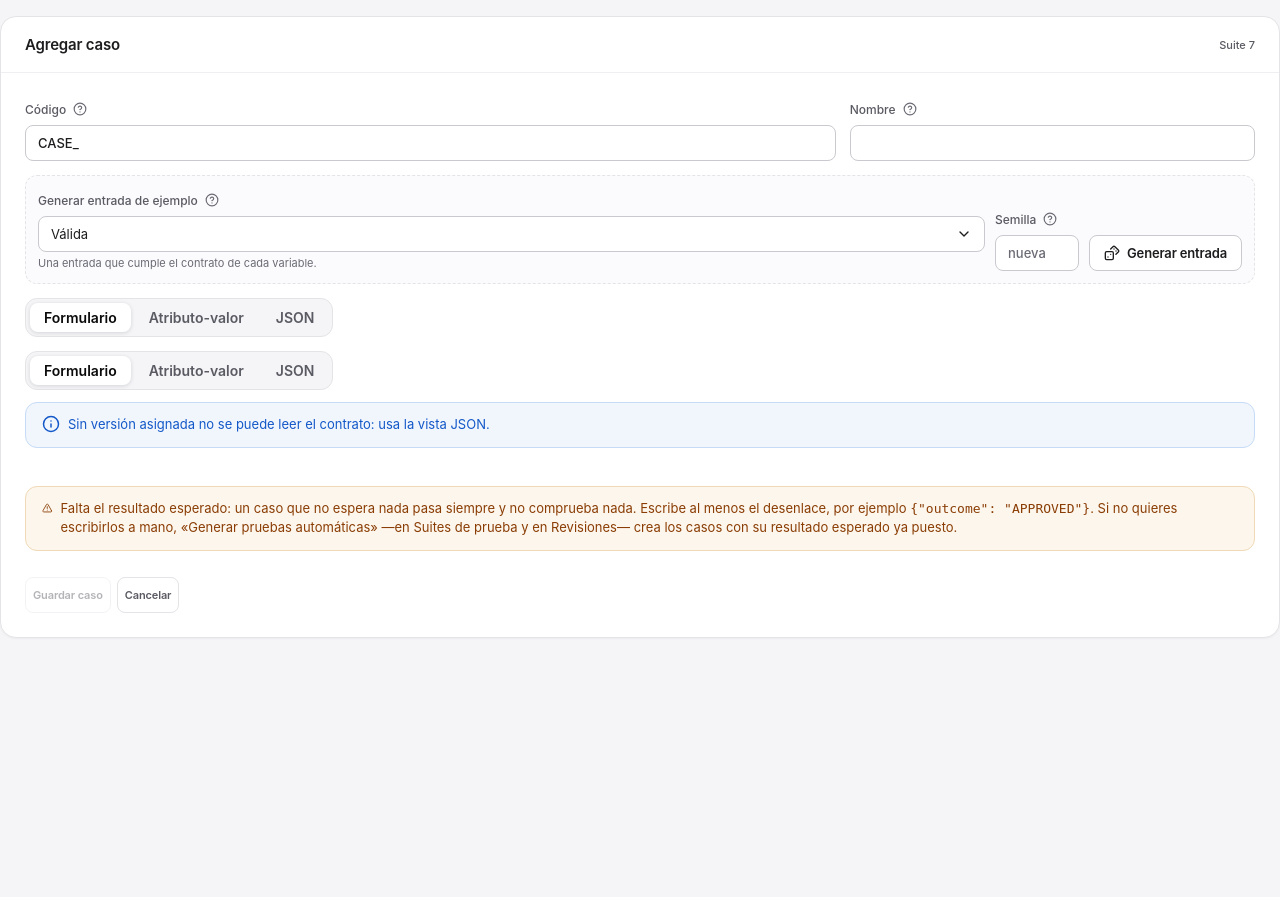
Generar entrada de un caso de prueba › no toca el resultado esperado: eso es lo que la prueba afirma
Click the button "Generar entrada" at (1166, 253), box [1089, 235, 1242, 271]
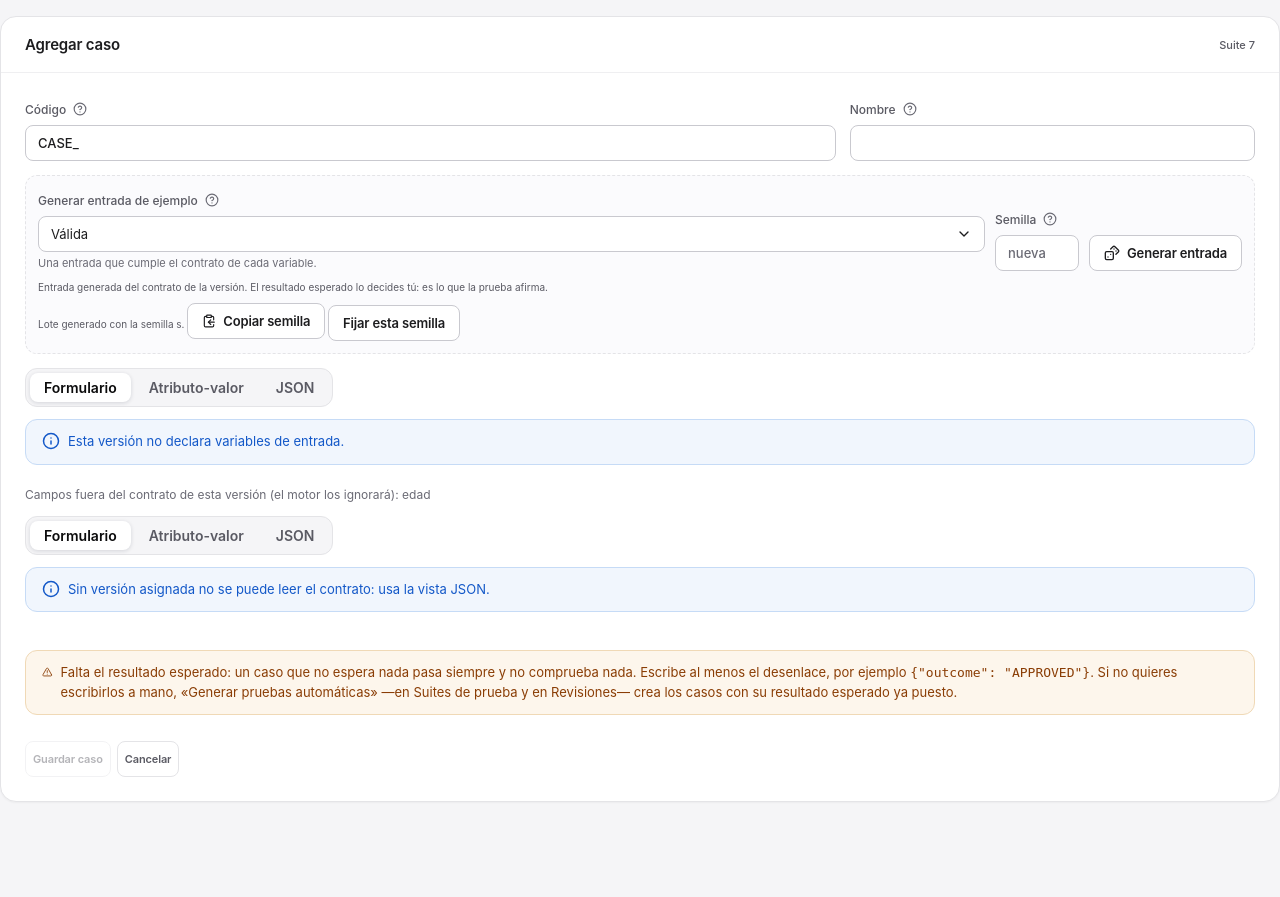
Expected: the text "semilla s" is shown, [38, 303, 460, 341]
Click the 2nd tab "JSON" at (295, 535), box [262, 521, 328, 550]
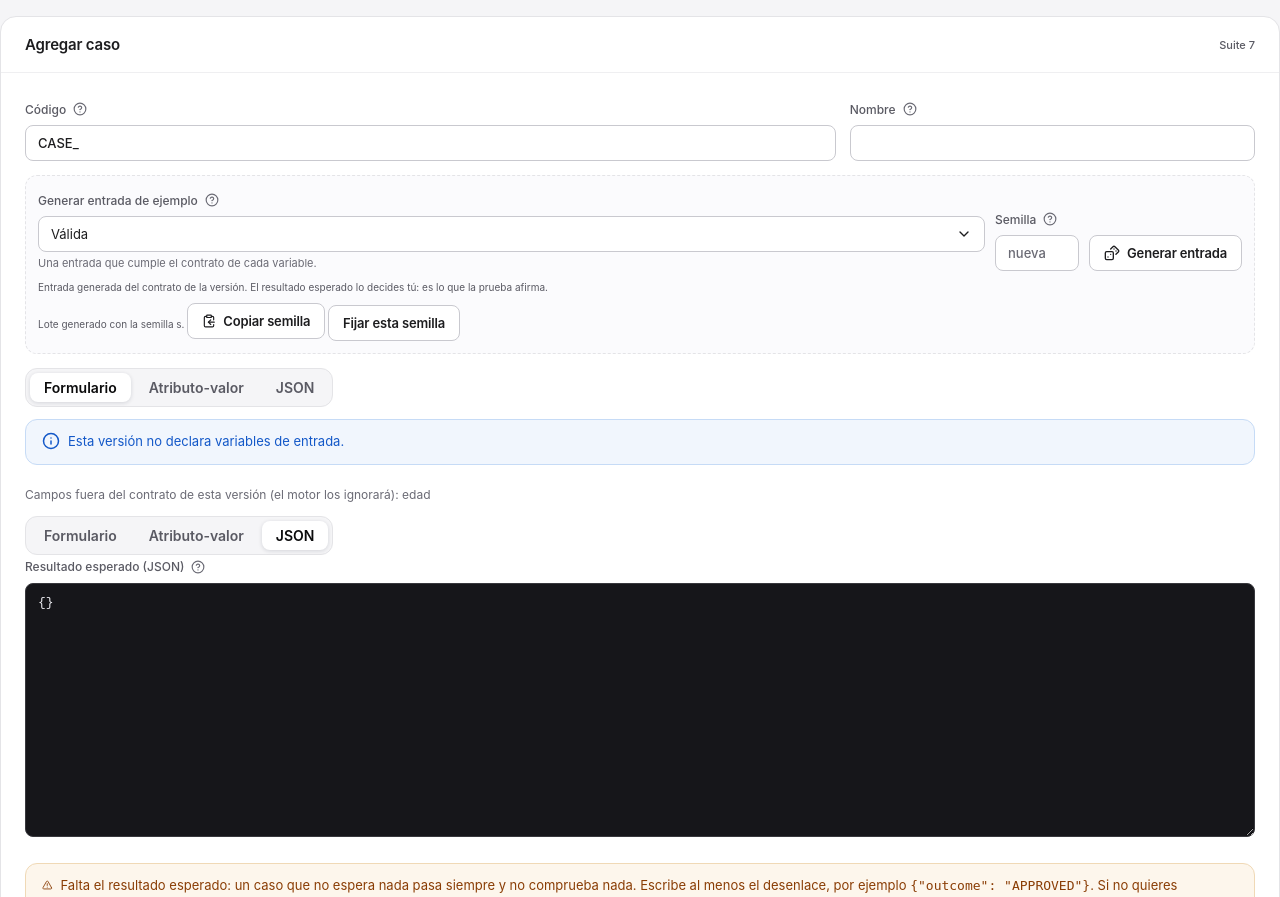
Expected: the text box labelled "Resultado esperado (JSON)" holds "{}", [25, 583, 1255, 837]
